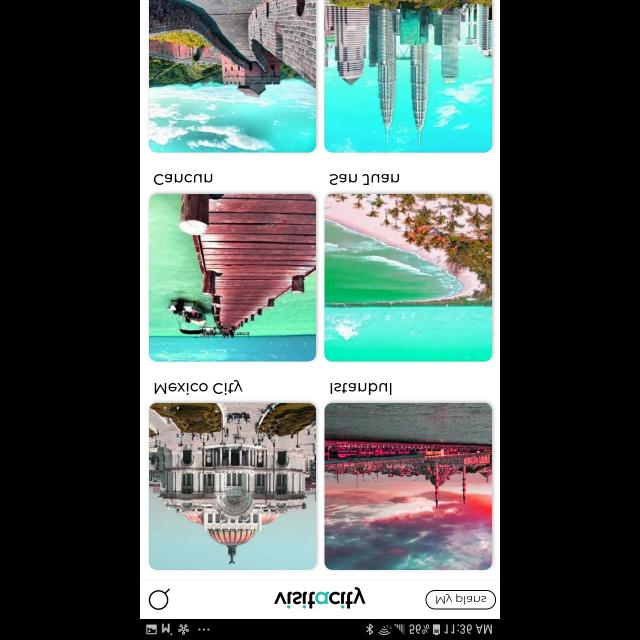icon: (149, 588, 171, 610)
image: (324, 194, 492, 362), (324, 402, 492, 570), (150, 194, 316, 362), (150, 402, 316, 570), (324, 0, 492, 153), (150, 0, 316, 152), (274, 587, 366, 609)
text: (154, 380, 243, 394), (329, 174, 399, 186), (331, 383, 392, 395), (154, 174, 213, 186)
textbutton: (424, 590, 496, 610)
uppertaskbar: (140, 618, 500, 640)
